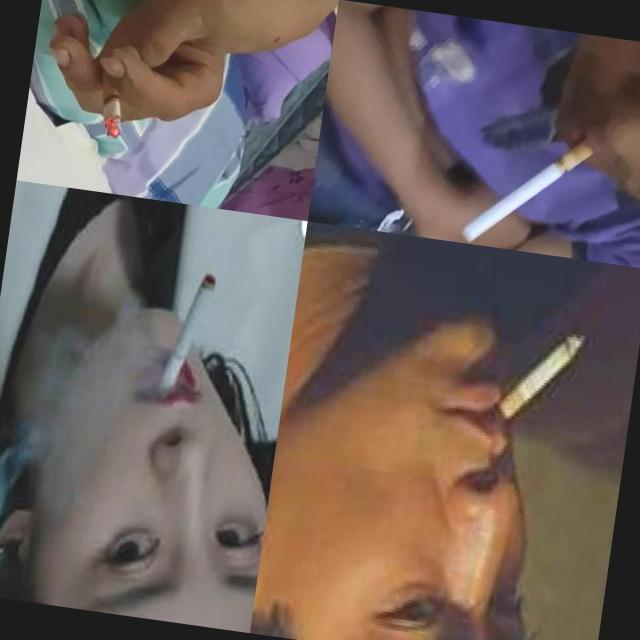smoke: (463, 126, 597, 259), (485, 318, 587, 447), (151, 269, 218, 414), (90, 61, 132, 141)
